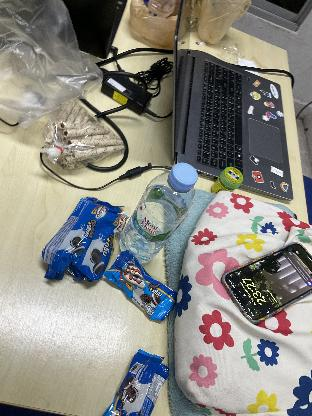Plastic Bag: (0, 0, 104, 128)
Plastic Bottle: (116, 160, 198, 267)
Plastic Packaging: (106, 250, 176, 320), (102, 348, 172, 416)
